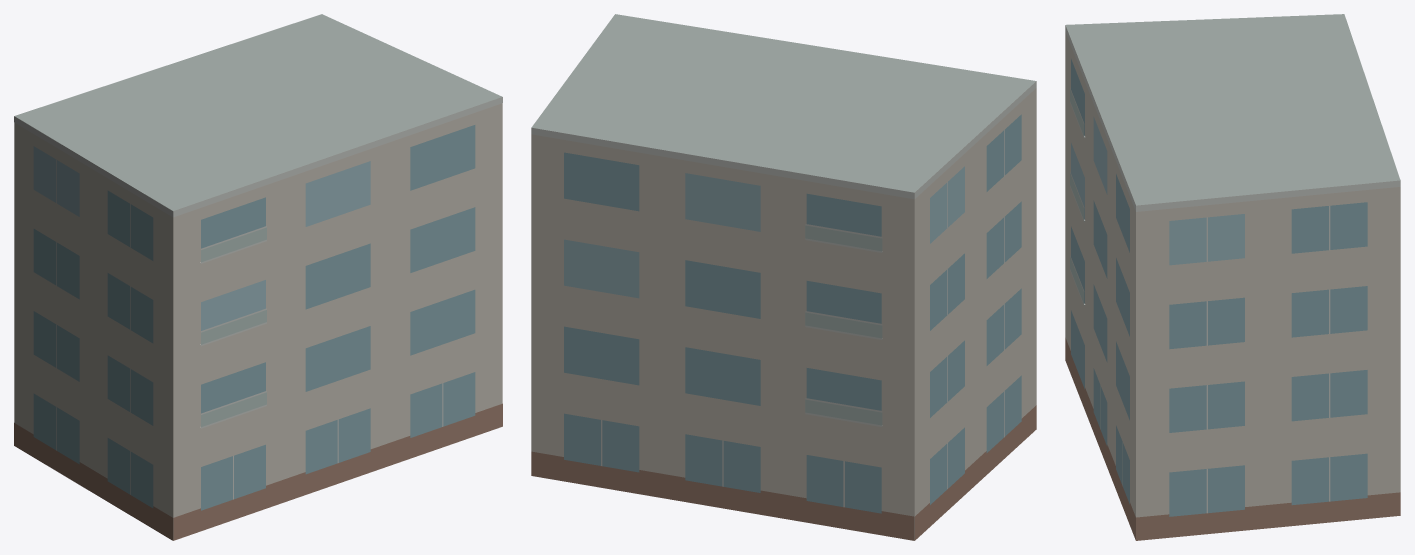
Rendered from survey-upis-33034953.glb.
3 views of the same model, side by side, from view 1: azimuth 30°, elevation 25°; view 2: azimuth 150°, elevation 25°; view 3: azimuth 270°, elevation 25° (orthographic). The views are drawn at different scales.
Visible parts, largest first — view 1: survey-upis-33034953.tmp; view 2: survey-upis-33034953.tmp; view 3: survey-upis-33034953.tmp.
Part boxes in pixels (x1,y1,x2,y2): survey-upis-33034953.tmp: [14, 14, 502, 540]; survey-upis-33034953.tmp: [531, 14, 1036, 540]; survey-upis-33034953.tmp: [1065, 14, 1400, 540].
Bounding box in the file's own units: 15.7 × 12.8 × 11.61.
